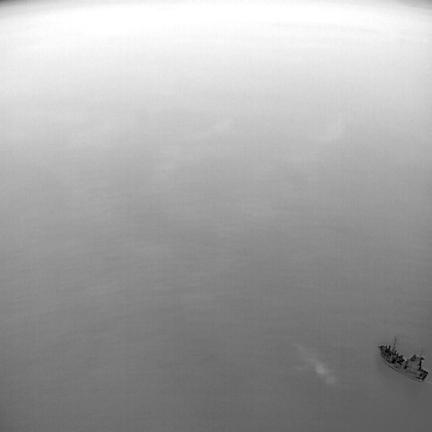flukeprints: (297, 345, 335, 383)
